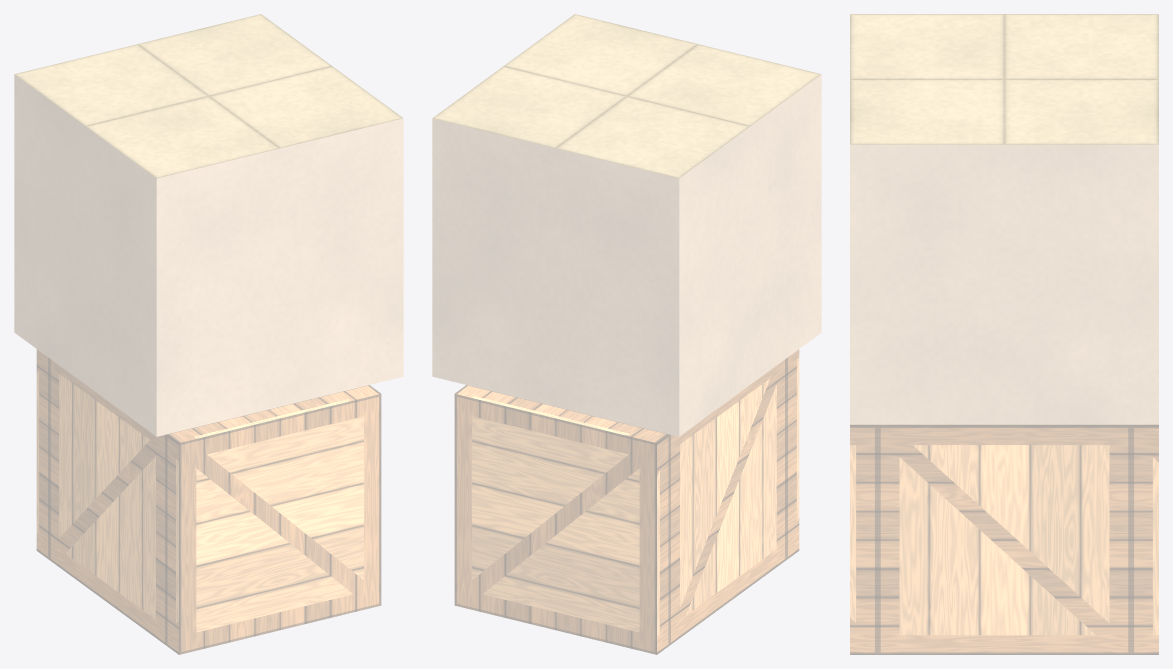
Rendered from level.gltf.
3 views of the same model, side by side, from view 1: azimuth 30°, elevation 25°; view 2: azimuth 150°, elevation 25°; view 3: azimuth 270°, elevation 25° (orthographic). The views are drawn at different scales.
Parts seen in each view (by area): view 1: P_Modul_34_Schiebestein, P_Modul_34_Kiste; view 2: P_Modul_34_Schiebestein, P_Modul_34_Kiste; view 3: P_Modul_34_Schiebestein, P_Modul_34_Kiste.
Boxes of the visible parts, x1,y1,x2,y2 form: P_Modul_34_Schiebestein: (14,14,403,436); P_Modul_34_Kiste: (36,349,381,654); P_Modul_34_Schiebestein: (432,14,821,436); P_Modul_34_Kiste: (454,349,799,654); P_Modul_34_Schiebestein: (850,14,1158,424); P_Modul_34_Kiste: (850,424,1158,654).
Bounding box in the file's own units: 5 × 9.33 × 5.
3 materials, 3 textured.
